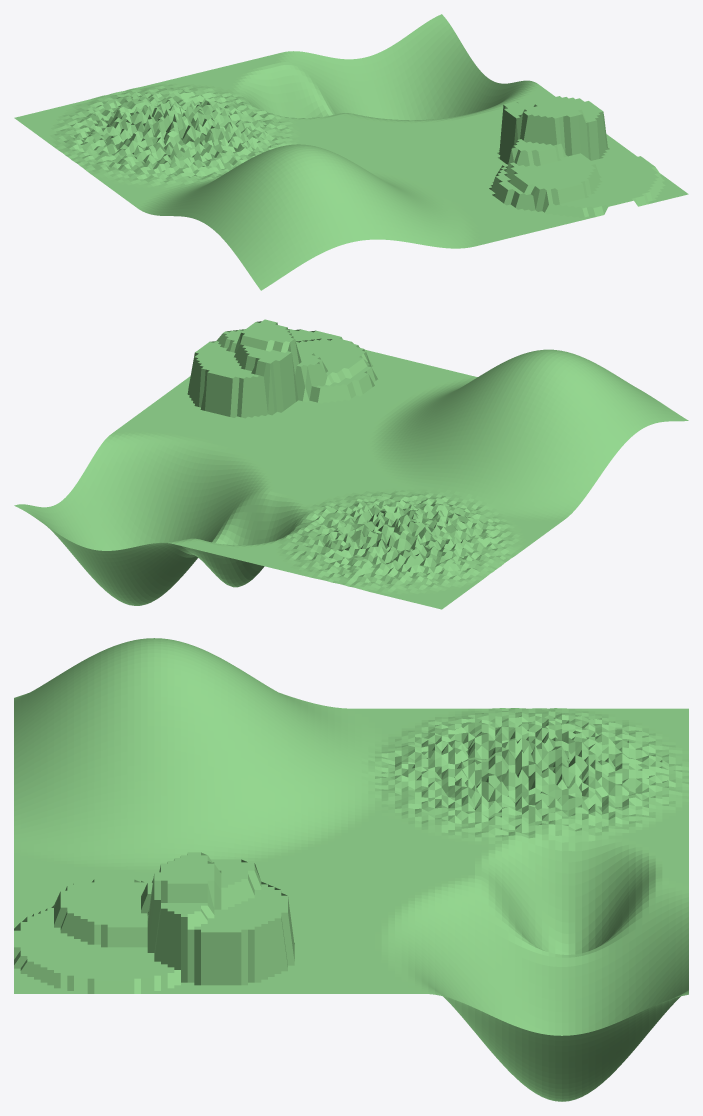
The picture shows the model from 3 angles, top to bottom: view 1: azimuth 30°, elevation 25°; view 2: azimuth 150°, elevation 25°; view 3: azimuth 270°, elevation 25°; orthographic projection. The views are drawn at different scales.
Parts seen in each view (by area): view 1: Plane; view 2: Plane; view 3: Plane.
Part boxes in pixels (box(x1,y1,x2,y2)): Plane: box(14, 14, 688, 290); Plane: box(14, 319, 688, 609); Plane: box(14, 638, 688, 1101).
Size of the model in its own units: 33.1 by 15 by 33.1.
